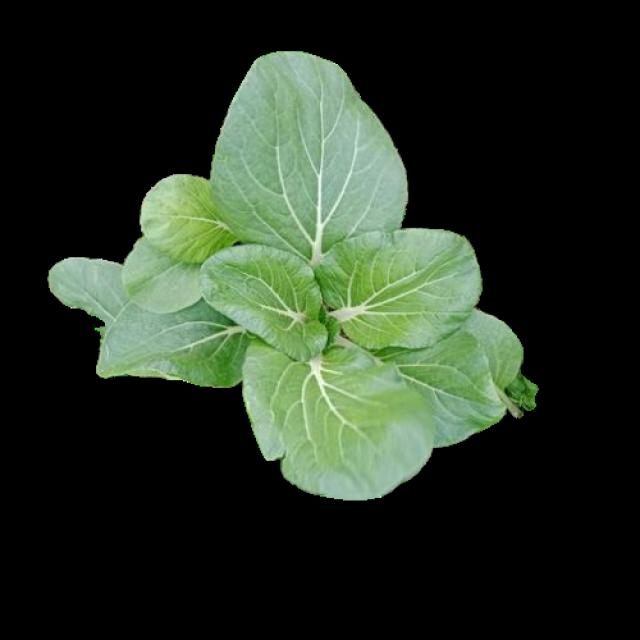healthy: (46, 49, 534, 495)
mature: (49, 51, 536, 498)
